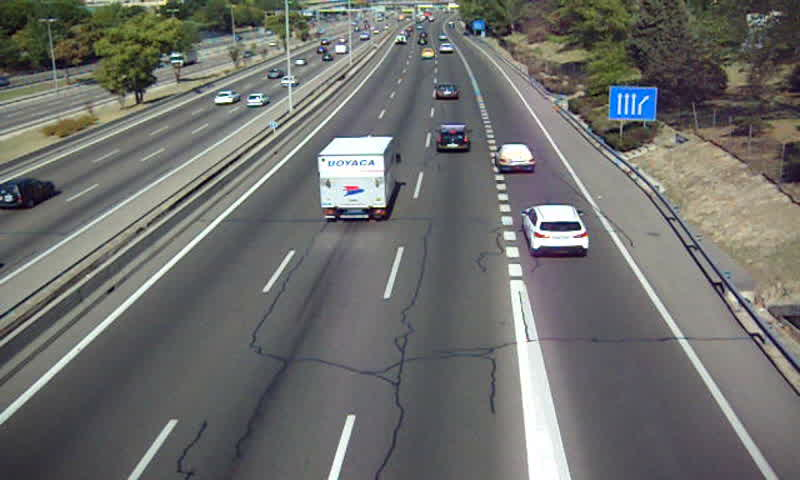car: (519, 204, 590, 256), (495, 144, 536, 172), (437, 124, 471, 152), (435, 82, 458, 101), (419, 47, 435, 58), (439, 42, 454, 53)
small-truck: (317, 136, 400, 222)
